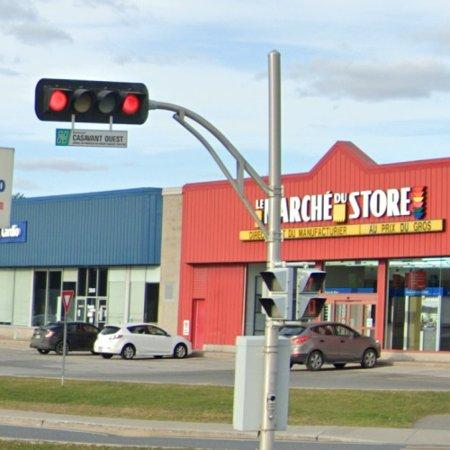traffic lights: (35, 79, 149, 124)
